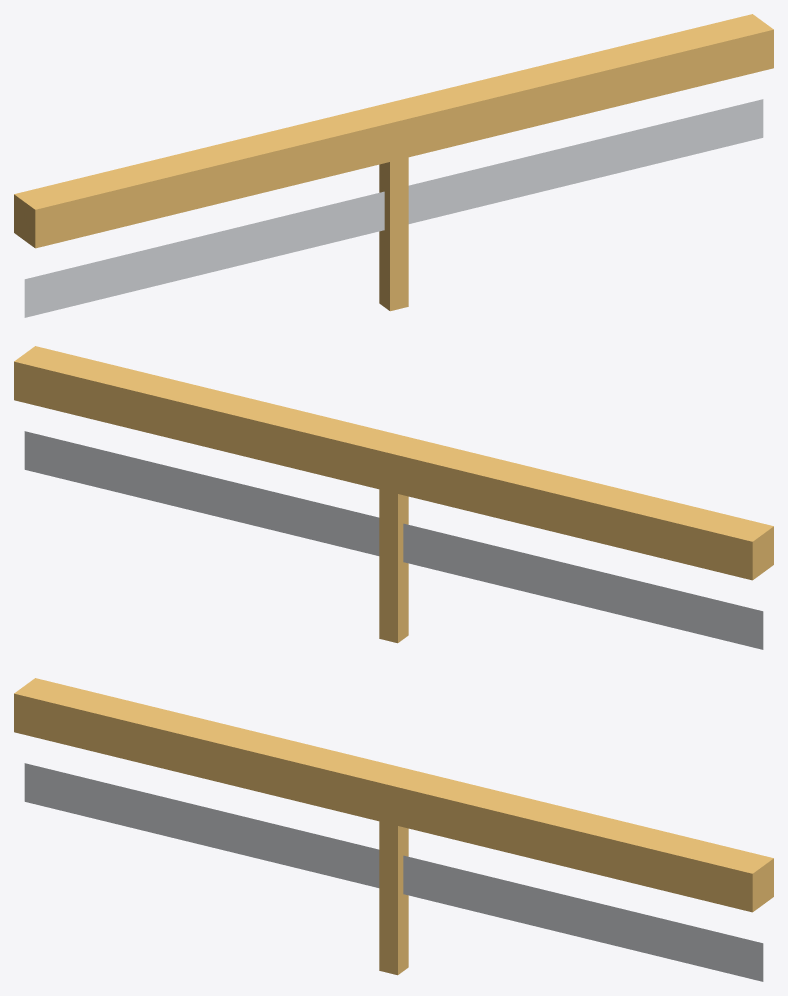
File: rail_middle.glb
3 views of the same model, one above another, from view 1: azimuth 30°, elevation 25°; view 2: azimuth 150°, elevation 25°; view 3: azimuth 330°, elevation 25° (orthographic).
Parts seen in each view (by area): view 1: rail_middle; view 2: rail_middle; view 3: rail_middle.
Boxes of the visible parts, x1,y1,x2,y2 form: rail_middle: (14,14,773,317); rail_middle: (14,346,773,649); rail_middle: (14,678,773,981).
Size of the model in its own units: 1.3 by 0.325 by 0.065.
